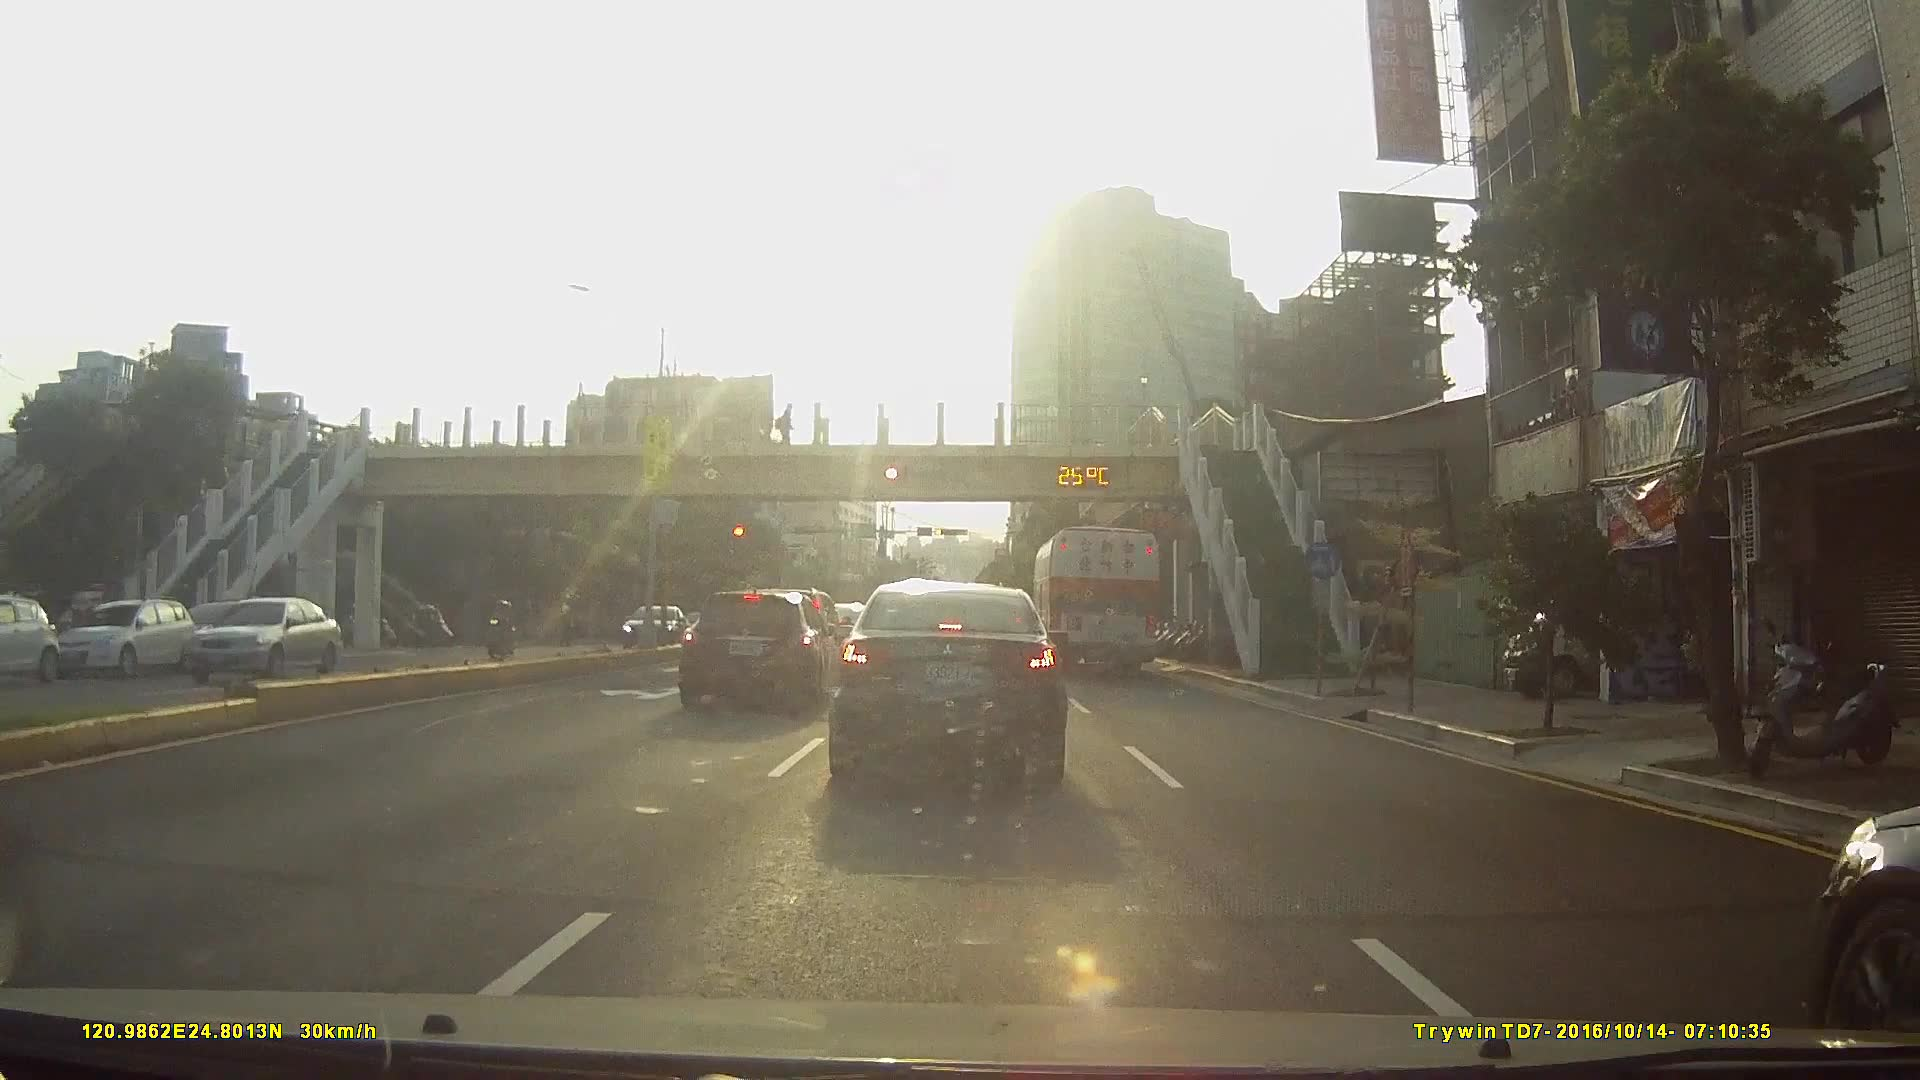pedestrian: (776, 402, 796, 448)
rider: (483, 597, 517, 662)
vehicle: (824, 581, 1070, 788), (671, 585, 844, 717), (1031, 524, 1161, 678), (162, 595, 332, 685), (49, 597, 191, 680), (176, 599, 282, 669), (0, 595, 57, 686), (614, 603, 686, 650)
